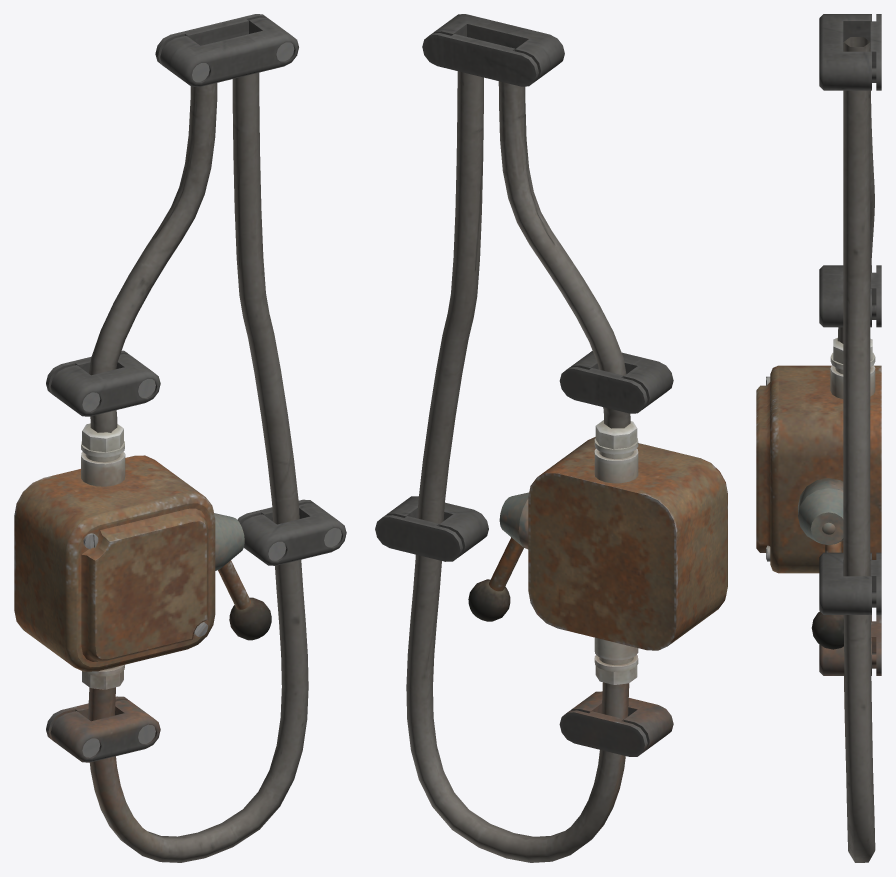
The model's file is cable_cable_switch.fbx.
3 views of the same model, side by side, from view 1: azimuth 30°, elevation 25°; view 2: azimuth 150°, elevation 25°; view 3: azimuth 270°, elevation 25° (orthographic).
Parts seen in each view (by area): view 1: modular_electric_cables_boxes__cable_switch; view 2: modular_electric_cables_boxes__cable_switch; view 3: modular_electric_cables_boxes__cable_switch.
Part boxes in pixels (box(x1,y1,x2,y2)): modular_electric_cables_boxes__cable_switch: box(14, 14, 346, 862); modular_electric_cables_boxes__cable_switch: box(375, 14, 727, 862); modular_electric_cables_boxes__cable_switch: box(756, 14, 881, 862).
Size of the model in its own units: 0.1469 by 0.3788 by 0.0522.
